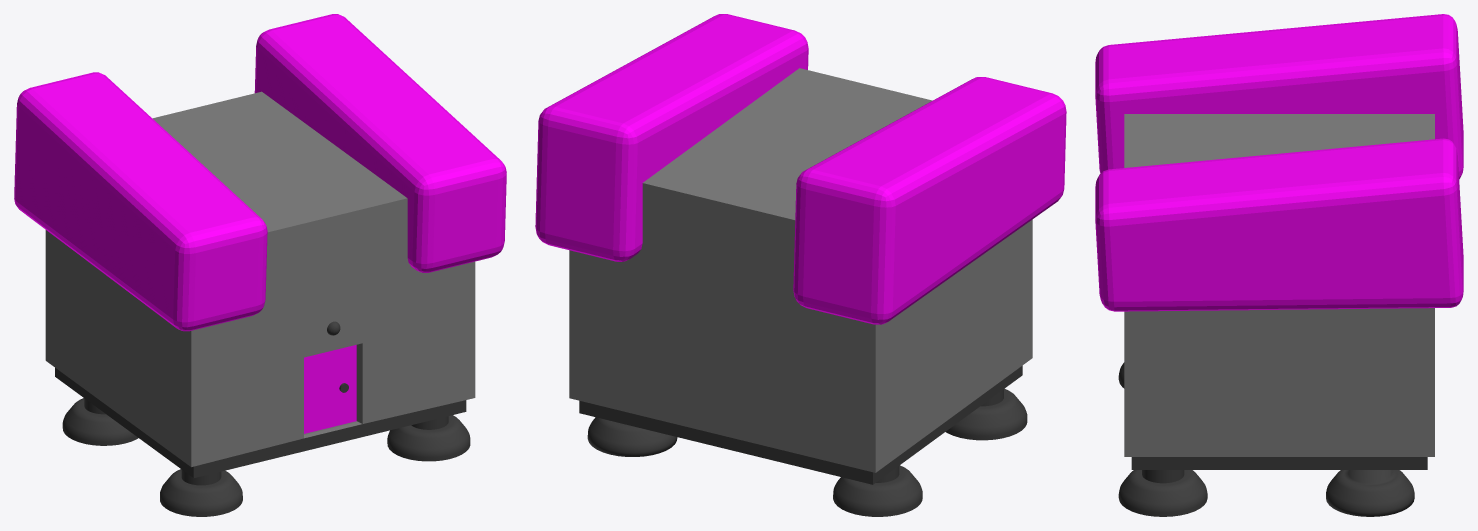
File: Barrak.fbx
3 views of the same model, side by side, from view 1: azimuth 30°, elevation 25°; view 2: azimuth 150°, elevation 25°; view 3: azimuth 270°, elevation 25° (orthographic). The views are drawn at different scales.
Visible parts, largest first — view 1: Cube.009, Cube.010, Cylinder.015, Cylinder.017, Cylinder.019; view 2: Cube.009, Cube.010, Cylinder.019, Cylinder.015; view 3: Cube.010, Cube.009, Cylinder.017.
Boxes of the visible parts, left/top/right/bottom form: Cube.009: left=45, top=91, right=475, bottom=477; Cube.010: left=14, top=14, right=506, bottom=331; Cylinder.015: left=160, top=469, right=242, bottom=516; Cylinder.017: left=387, top=415, right=470, bottom=461; Cylinder.019: left=62, top=398, right=138, bottom=445; Cube.009: left=569, top=68, right=1032, bottom=484; Cube.010: left=535, top=14, right=1066, bottom=324; Cylinder.019: left=833, top=465, right=922, bottom=516; Cylinder.015: left=946, top=388, right=1027, bottom=440; Cube.010: left=1095, top=14, right=1463, bottom=311; Cube.009: left=1124, top=114, right=1434, bottom=516; Cylinder.017: left=1118, top=470, right=1207, bottom=516.
Bounding box in the file's own units: 185 × 173 × 168.
